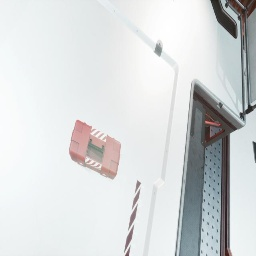FirstAidBox ,: (69, 120, 121, 180)
